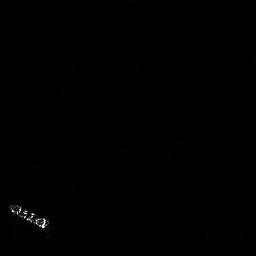ship: (7, 200, 51, 234)
